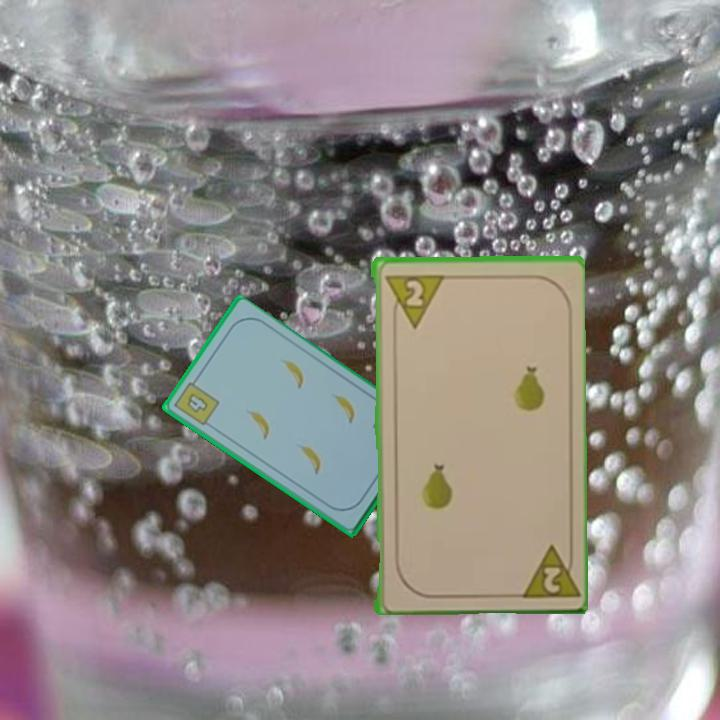2p: (514, 539, 579, 601), (381, 271, 444, 330)
4b: (170, 374, 222, 429)
